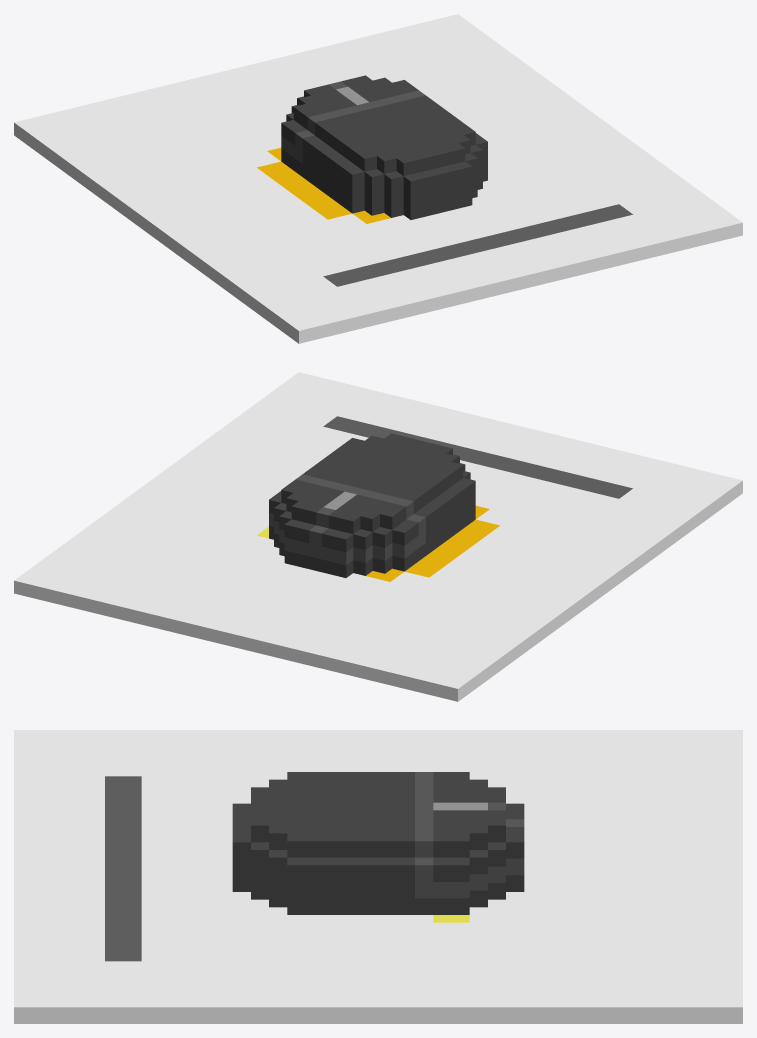
File: Mouse1.fbx
3 views of the same model, one above another, from view 1: azimuth 30°, elevation 25°; view 2: azimuth 150°, elevation 25°; view 3: azimuth 270°, elevation 25° (orthographic). The views are drawn at different scales.
Visible parts, largest first — view 1: Mouse1.001, Mouse1; view 2: Mouse1.001, Mouse1; view 3: Mouse1.001, Mouse1.
Part boxes in pixels (box(x1,y1,x2,y2)): Mouse1.001: box(14, 14, 742, 343); Mouse1: box(281, 75, 487, 219); Mouse1.001: box(14, 372, 742, 701); Mouse1: box(269, 433, 475, 577); Mouse1.001: box(14, 730, 742, 1023); Mouse1: box(232, 772, 524, 914).
Bounding box in the file's own units: 3.6 × 0.5 × 4.
